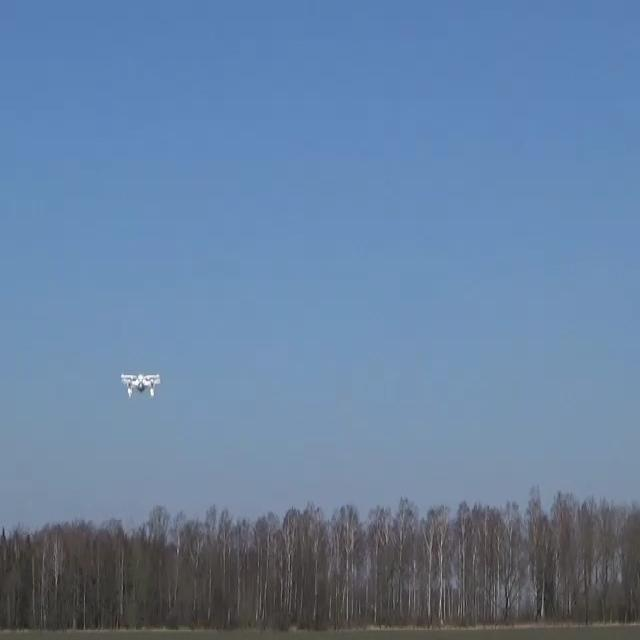drone: (120, 373, 162, 397)
